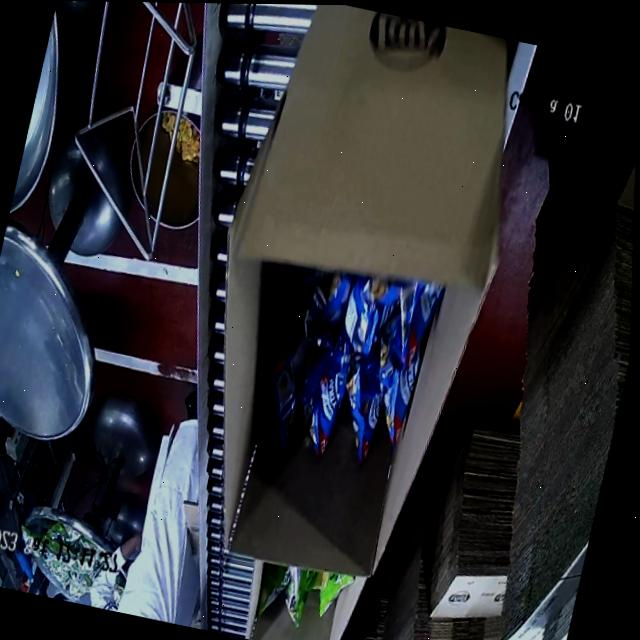PAPRIKA: (249, 253, 445, 491)
